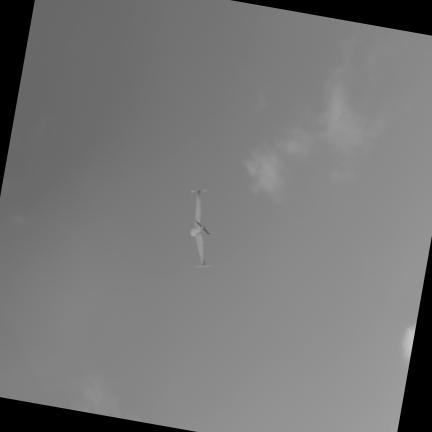Shahed: (190, 189, 212, 265)
